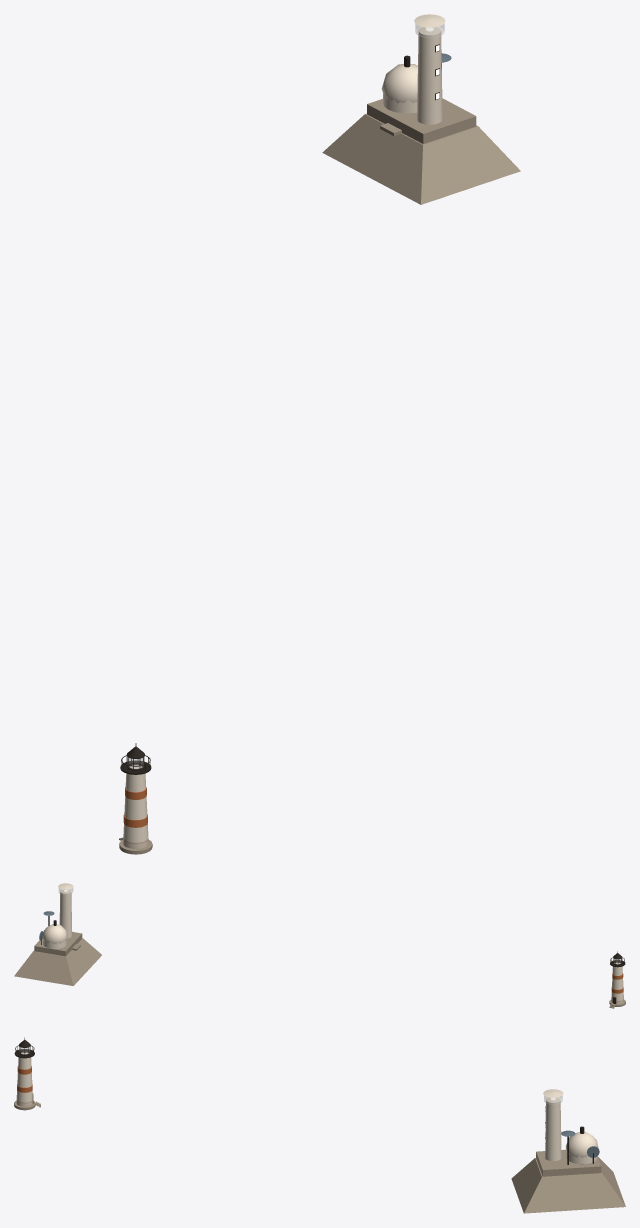
File: z4-observatoire.glb
3 renders of one model, top to bottom at view 1: azimuth 30°, elevation 25°; view 2: azimuth 150°, elevation 25°; view 3: azimuth 270°, elevation 25°, orthographic. The views are drawn at different scales.
Parts seen in each view (by area): view 1: Z4_Architecture_Observatory_stone, Z4_Architecture_Observatory_white, Z4_Architecture_Lighthouse_Tower; view 2: Z4_Architecture_Observatory_stone, Z4_Architecture_Observatory_white, Z4_Architecture_Lighthouse_Tower; view 3: Z4_Architecture_Observatory_stone, Z4_Architecture_Observatory_white, Z4_Architecture_Lighthouse_Tower.
Part boxes in pixels (x1=…): Z4_Architecture_Observatory_stone: x1=322, y1=98, x2=520, y2=204; Z4_Architecture_Observatory_white: x1=381, y1=14, x2=445, y2=124; Z4_Architecture_Lighthouse_Tower: x1=123, y1=765, x2=148, y2=848; Z4_Architecture_Observatory_stone: x1=14, y1=932, x2=101, y2=985; Z4_Architecture_Observatory_white: x1=42, y1=883, x2=73, y2=948; Z4_Architecture_Lighthouse_Tower: x1=611, y1=962, x2=623, y2=1004; Z4_Architecture_Observatory_stone: x1=511, y1=1149, x2=625, y2=1213; Z4_Architecture_Observatory_white: x1=543, y1=1089, x2=598, y2=1164; Z4_Architecture_Lighthouse_Tower: x1=16, y1=1052, x2=32, y2=1106.
Size of the model in its own units: 120 by 52.92 by 124.
